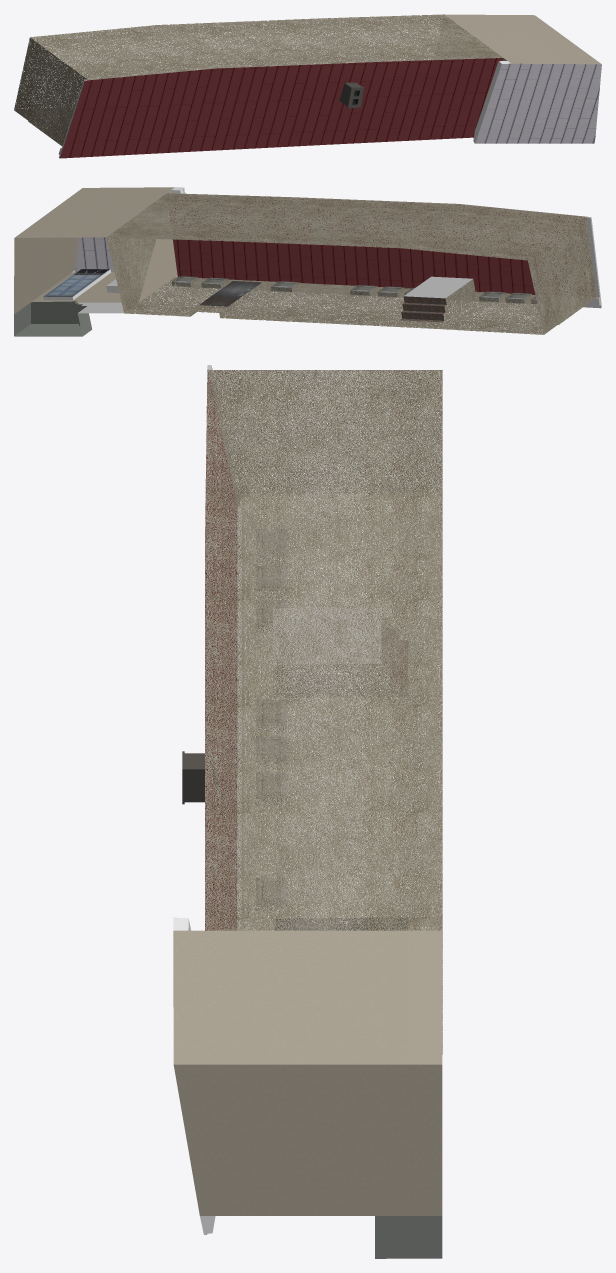
The model's file is Lai_50_3.obj.
3 views of the same model, one above another, from view 1: azimuth 30°, elevation 25°; view 2: azimuth 150°, elevation 25°; view 3: azimuth 270°, elevation 25° (orthographic). The views are drawn at different scales.
Parts seen in each view (by area): view 1: Lai50_3, Lai50_3a; view 2: Lai50_3, Lai50_3a; view 3: Lai50_3, Lai50_3a.
Part boxes in pixels (x1,y1,x2,y2): Lai50_3: (14,14,503,158); Lai50_3a: (445,14,601,143); Lai50_3: (106,193,601,334); Lai50_3a: (14,187,185,336); Lai50_3: (182,365,442,1054); Lai50_3a: (173,917,442,1258).
Size of the model in its own units: 23.74 by 8.55 by 5.26.
